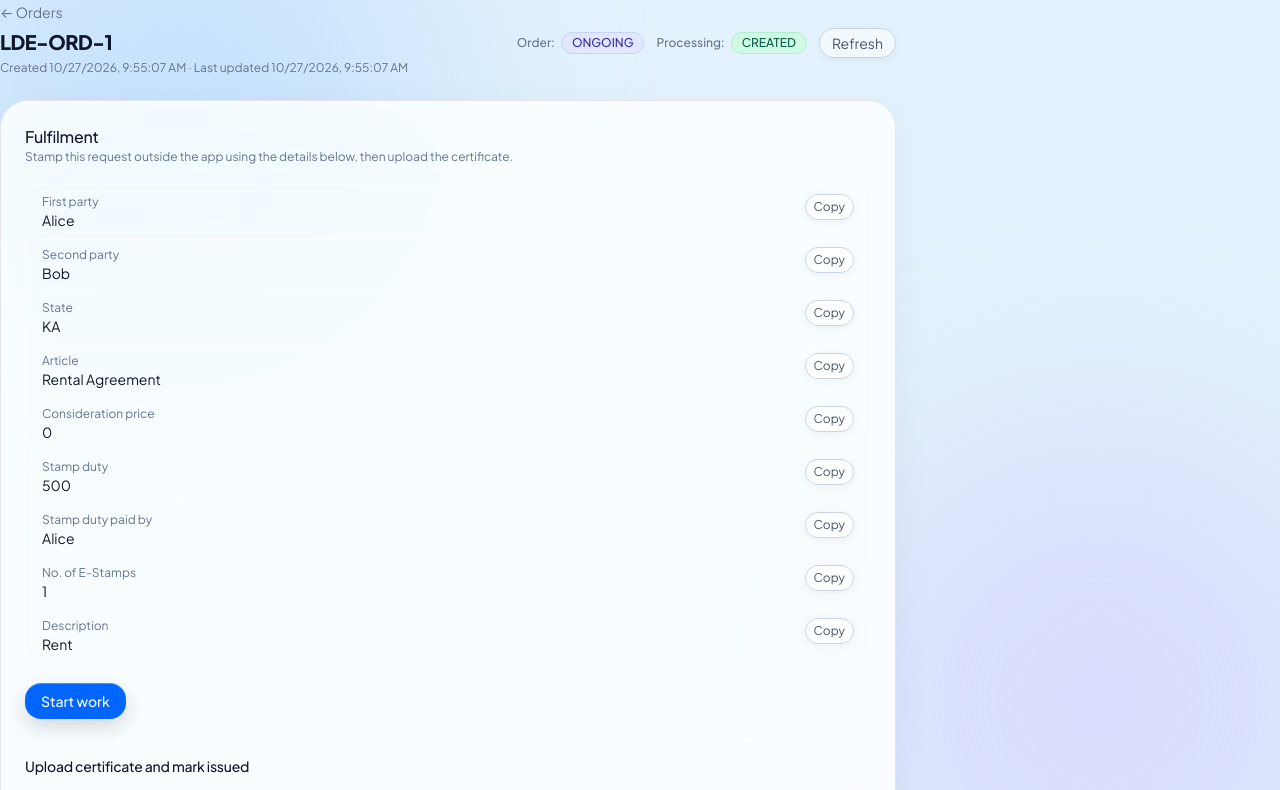
Test: Order detail - fulfilment panel › shows the request details to copy and Start work posts after confirmation
Expected: the text "Alice" is shown 2 times, [42,211,75,229]; [42,529,75,547]
Expected: the text "Bob" is shown, [42,264,70,282]
Click the button "Start work" at (75, 701), box [25,683,126,719]
(page scrolled)
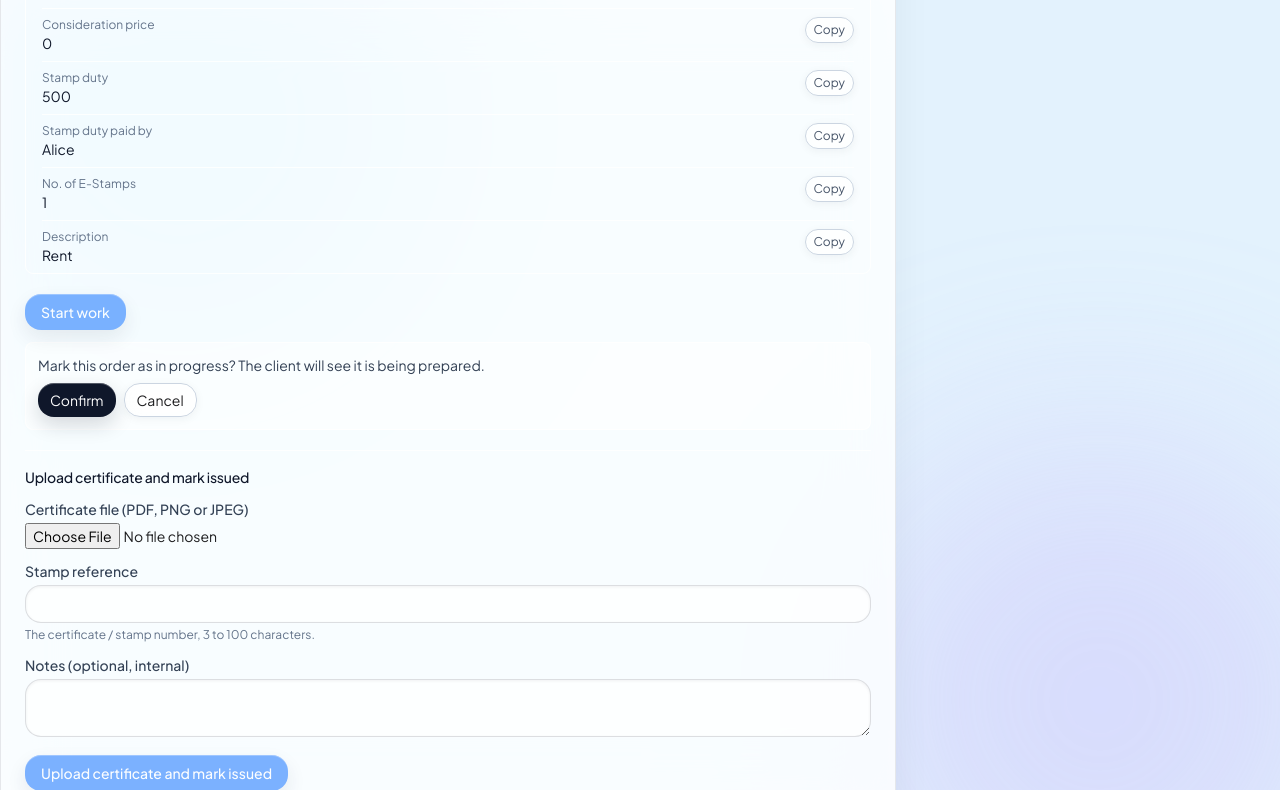
Click the button "Confirm" at (77, 400), box [38,383,116,417]
(page scrolled)
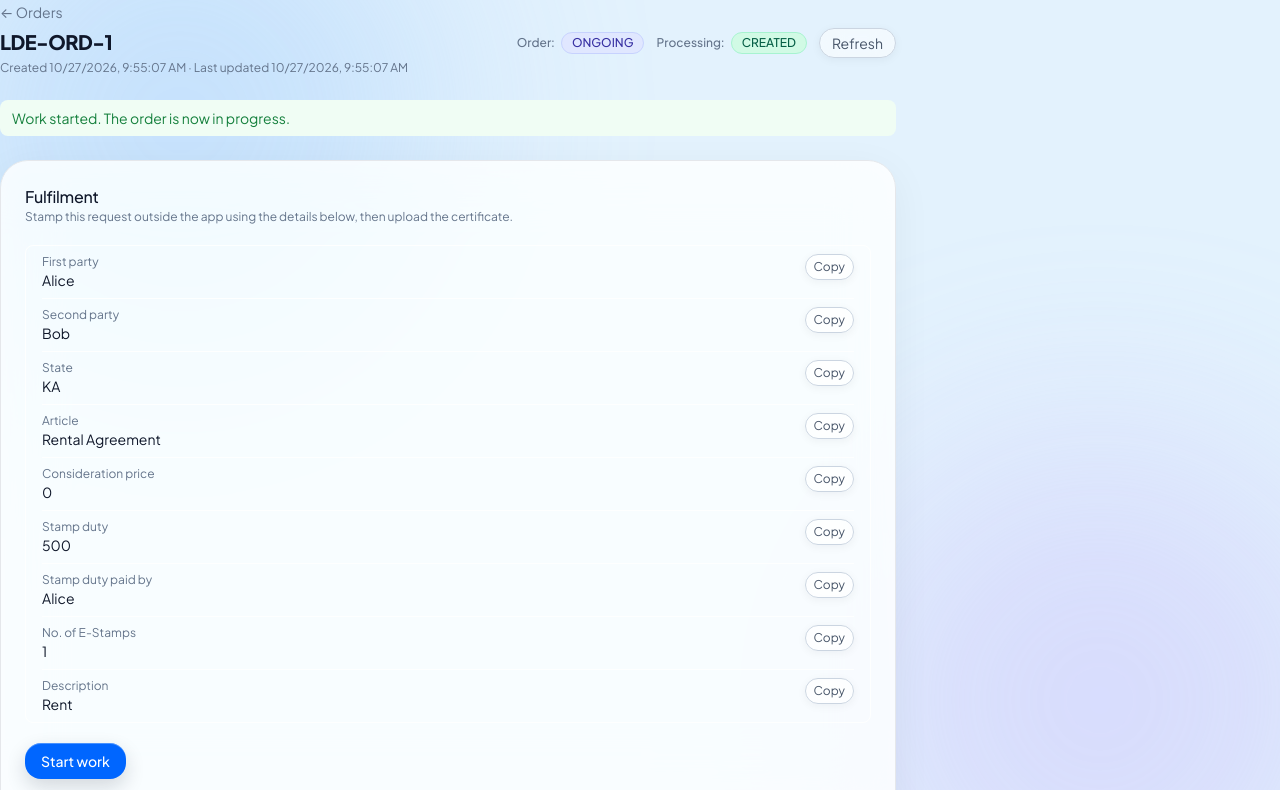
Now the text "Work started. The order is now in progress." is shown, box [0,100,896,136]
